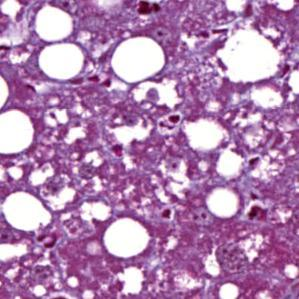steatosis: (110, 36, 166, 84), (36, 38, 90, 82), (101, 217, 149, 260), (201, 185, 240, 221)
